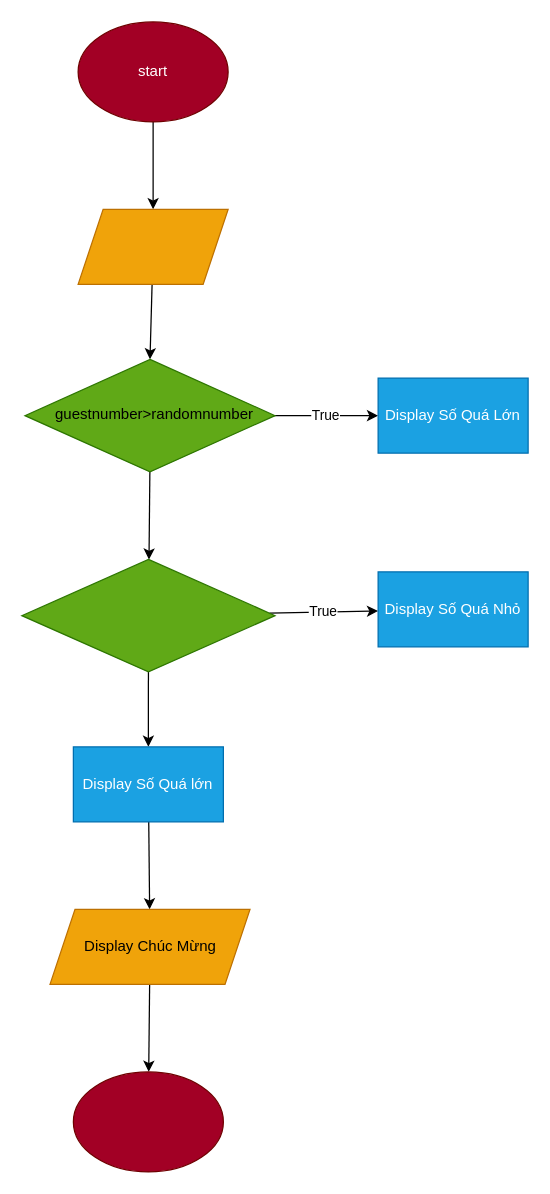
This 550x1194 diagram has some shape labels left out. The shapes that lost their labels are listed below. From the top down, each one's box as (x1, y1, x2, y2) in pixels, then its label:
(77, 208, 228, 284): input randomnumber guestnumber
(21, 558, 275, 672): guestnumber<randomnumber
(72, 1071, 223, 1172): End
